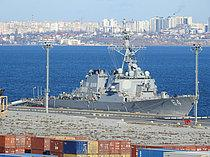MIL_Ship: (31, 28, 200, 112)
